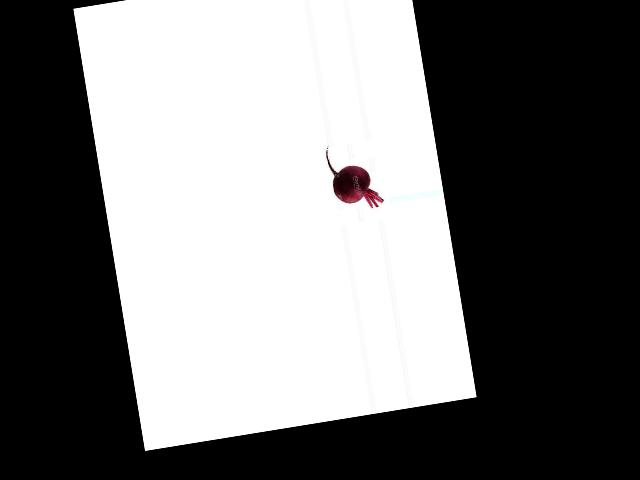beet: (325, 138, 384, 213)
